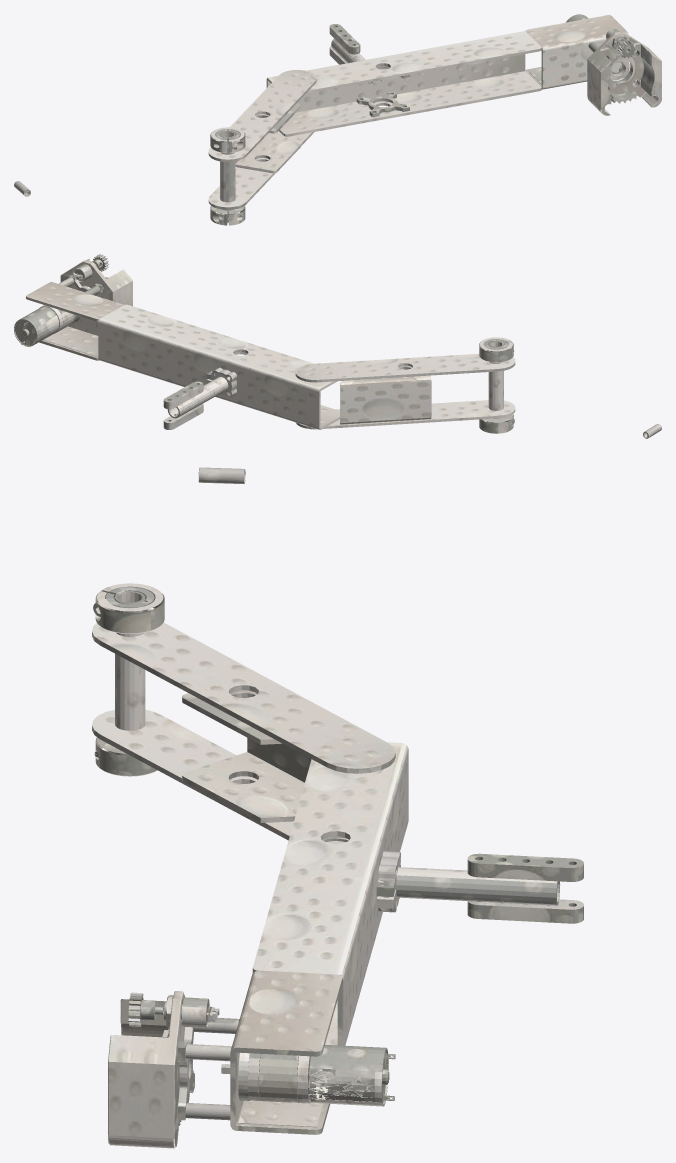
Rendered from rocker_left.dae.
The picture shows the model from 3 angles, top to bottom: view 1: azimuth 30°, elevation 25°; view 2: azimuth 150°, elevation 25°; view 3: azimuth 270°, elevation 25°; orthographic projection. The views are drawn at different scales.
Visible parts, largest first — view 1: rocker_left; view 2: rocker_left; view 3: rocker_left.
Boxes of the visible parts, x1,y1,x2,y2 form: rocker_left: (14, 14, 661, 225); rocker_left: (14, 254, 661, 438); rocker_left: (92, 467, 583, 1148).
Size of the model in its own units: 0.582 by 0.2041 by 0.0762.
Materials: 1 (1 with a texture image).
